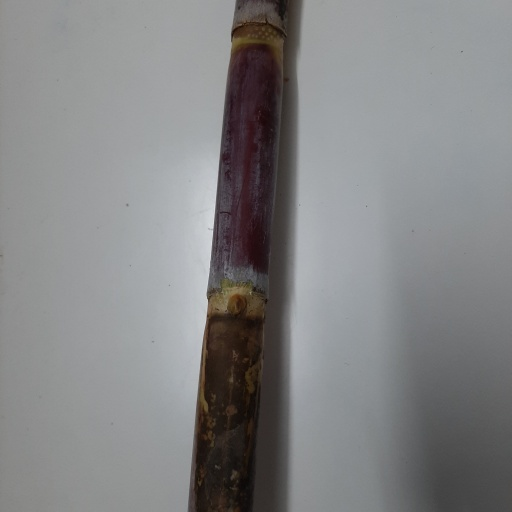Bud: (226, 293, 246, 318)
